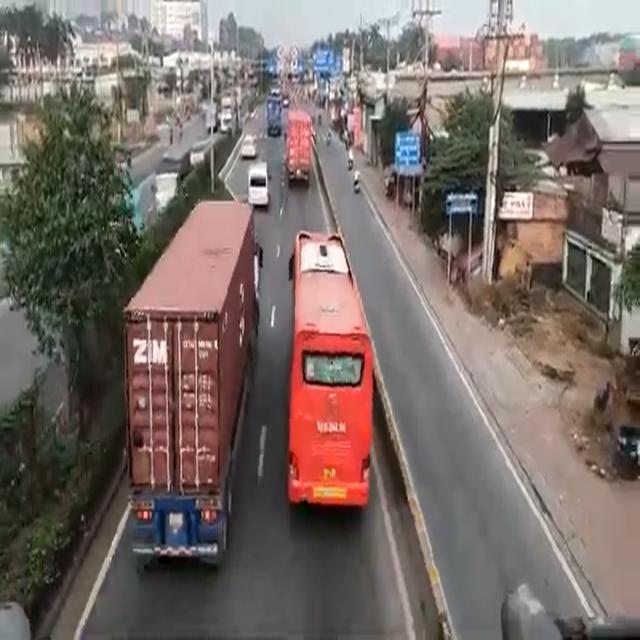bus: (288, 228, 372, 518)
car: (247, 159, 272, 215)
truck: (129, 208, 256, 577), (286, 111, 311, 186), (264, 96, 282, 141)
